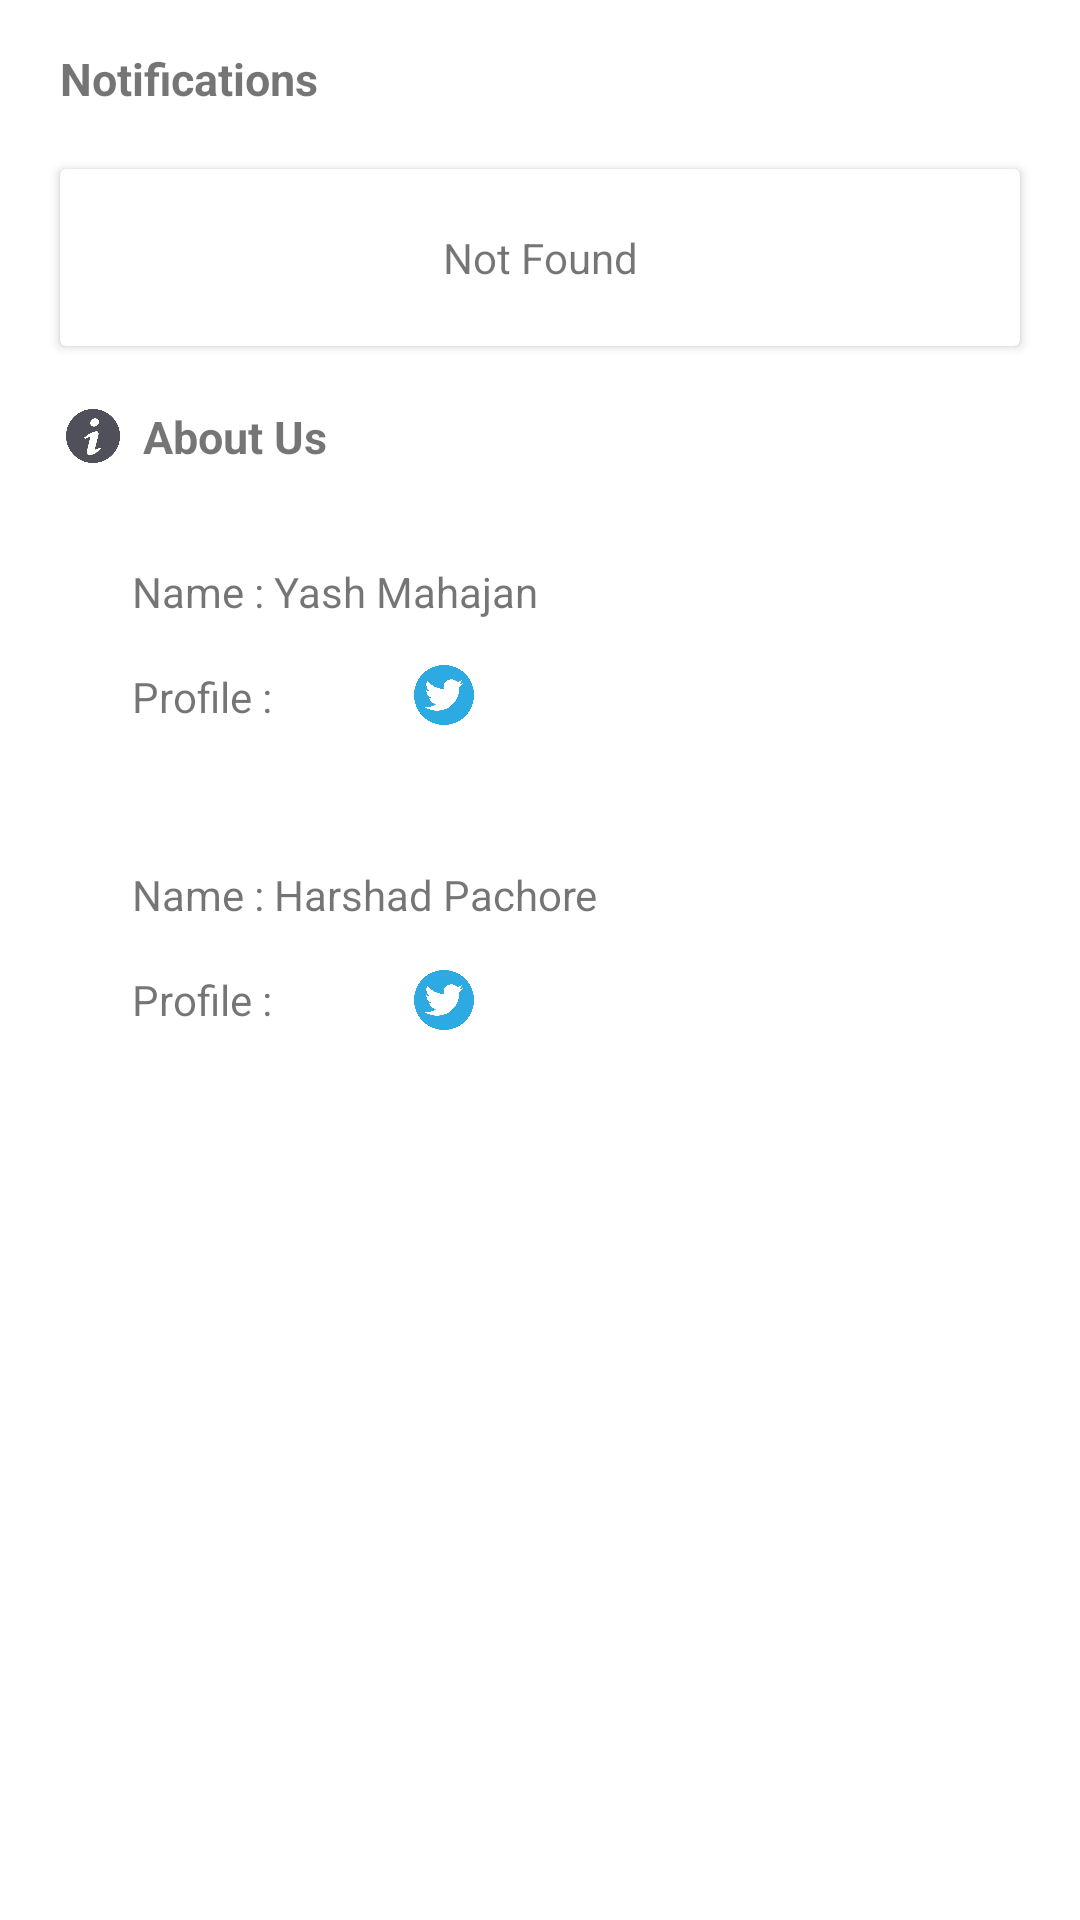

Icon bounding boxes for this 1080px x 1920px phone screenshot, format rect(x1, y1, x2, y2):
noticeicon: rect(66, 409, 120, 463)
